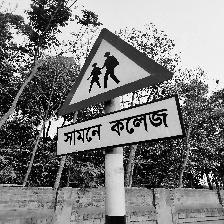College-in-front: (49, 19, 184, 181)
